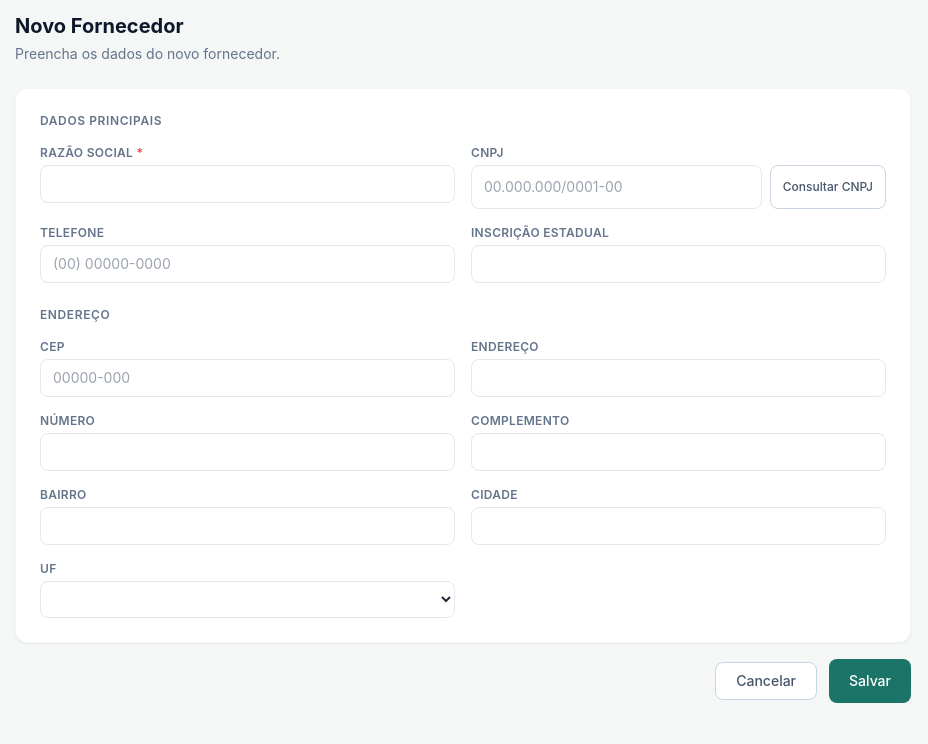
FornecedorForm — disponibilidade do CNPJ › avisa duplicidade antes de consultar fonte externa
Type "12345678000190" into the field labelled "CNPJ".
click(616, 187); type("12345678000190")  # box [471,165,762,209]
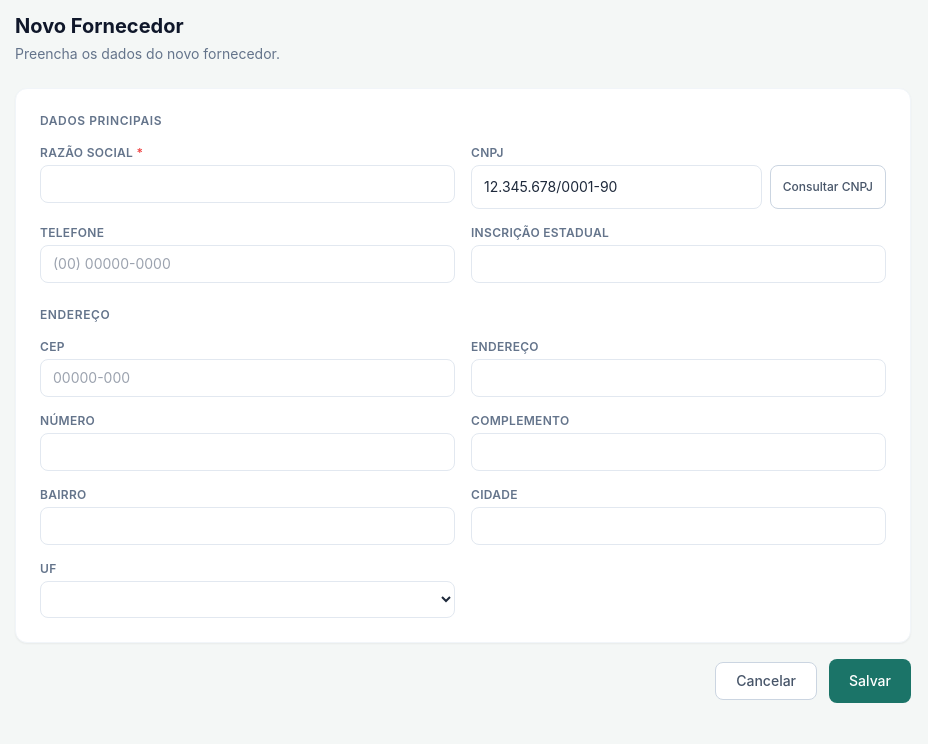
Click the button "Consultar CNPJ".
click(828, 187)  # box [770,165,886,209]
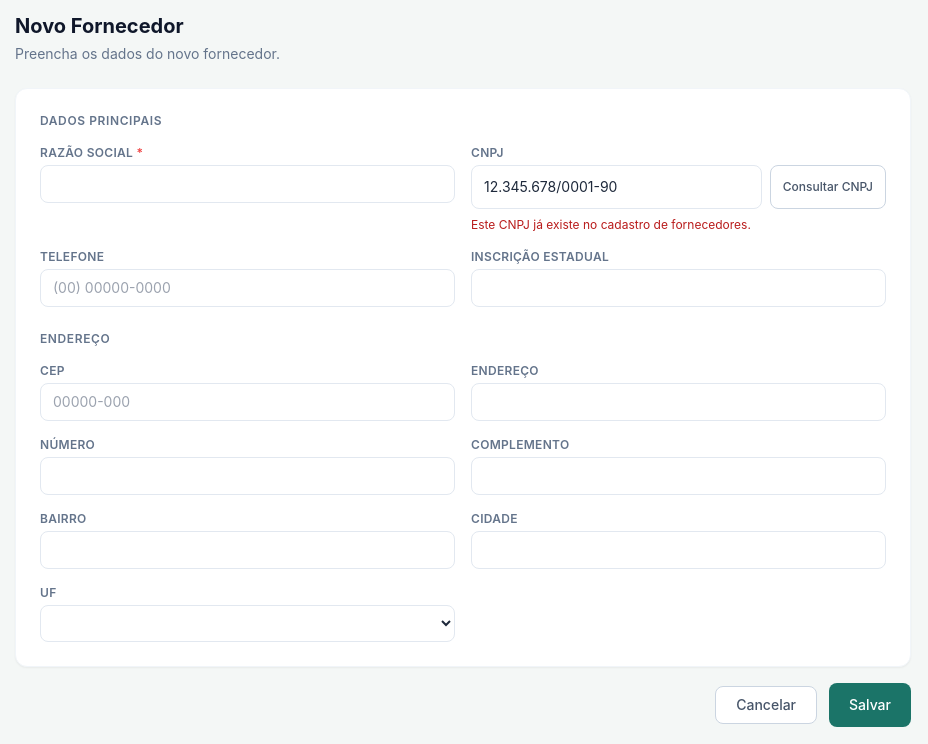
Result: the message reads "Este CNPJ já existe no cadastro de fornecedores." at [471,217,751,232]
